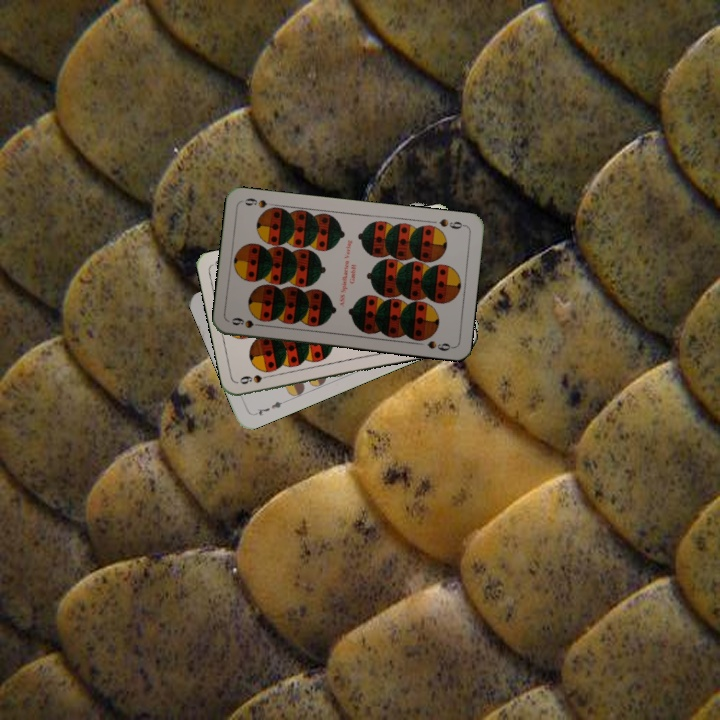E7: (250, 397, 289, 418)
S9: (228, 313, 267, 331), (235, 370, 276, 387), (435, 215, 468, 232)
